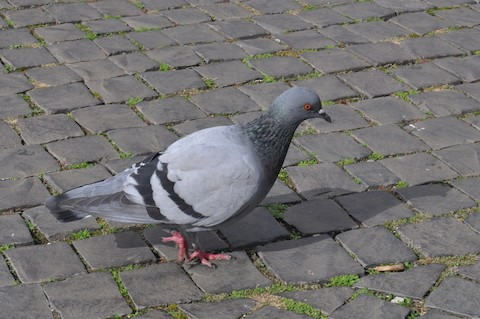pigeon: (46, 85, 337, 269)
